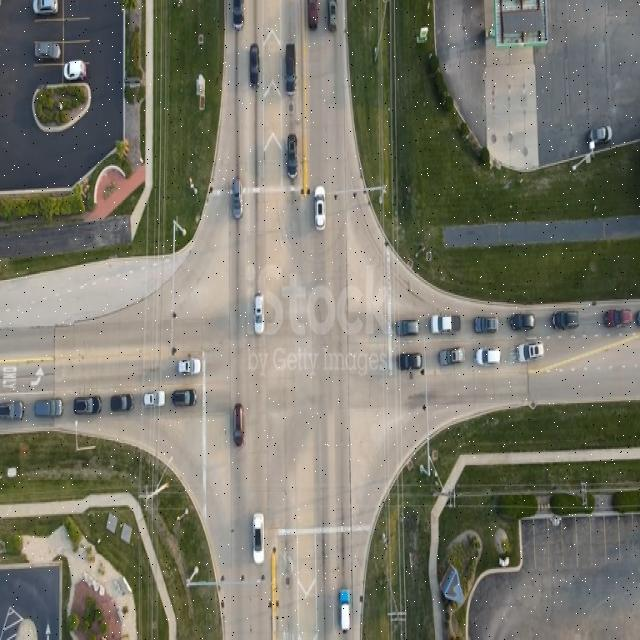car: (284, 44, 296, 96), (252, 513, 264, 563), (34, 400, 62, 420), (604, 308, 632, 328), (588, 126, 612, 148), (340, 592, 352, 636), (518, 344, 544, 364), (552, 311, 578, 331), (73, 399, 100, 418), (0, 403, 24, 424), (398, 353, 422, 373), (109, 393, 133, 412), (236, 176, 247, 217), (249, 46, 259, 90), (288, 136, 298, 180), (235, 404, 245, 448), (65, 61, 87, 81), (477, 348, 501, 366), (475, 317, 499, 335), (440, 349, 464, 367), (512, 314, 536, 332), (314, 187, 324, 230), (233, 178, 243, 220), (177, 358, 200, 376), (172, 390, 195, 408), (397, 320, 419, 338), (233, 0, 246, 30), (254, 297, 264, 335), (33, 0, 58, 15), (327, 1, 336, 34)
pickup-truck: (34, 40, 62, 60)
